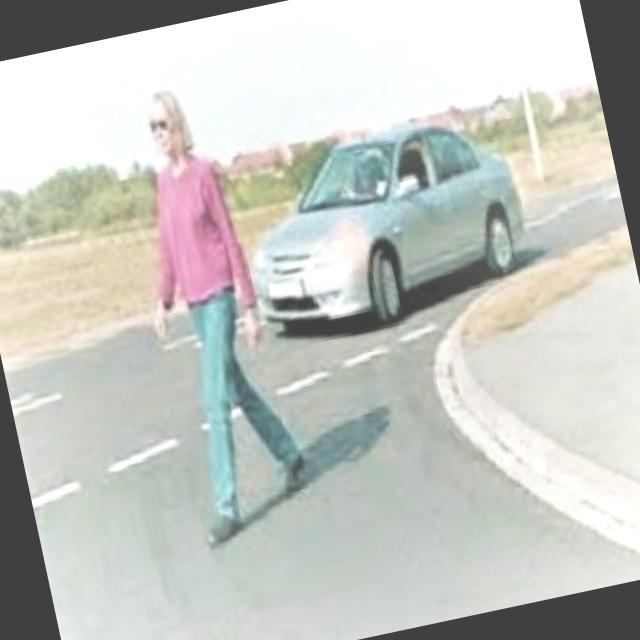Person: (100, 72, 330, 554)
